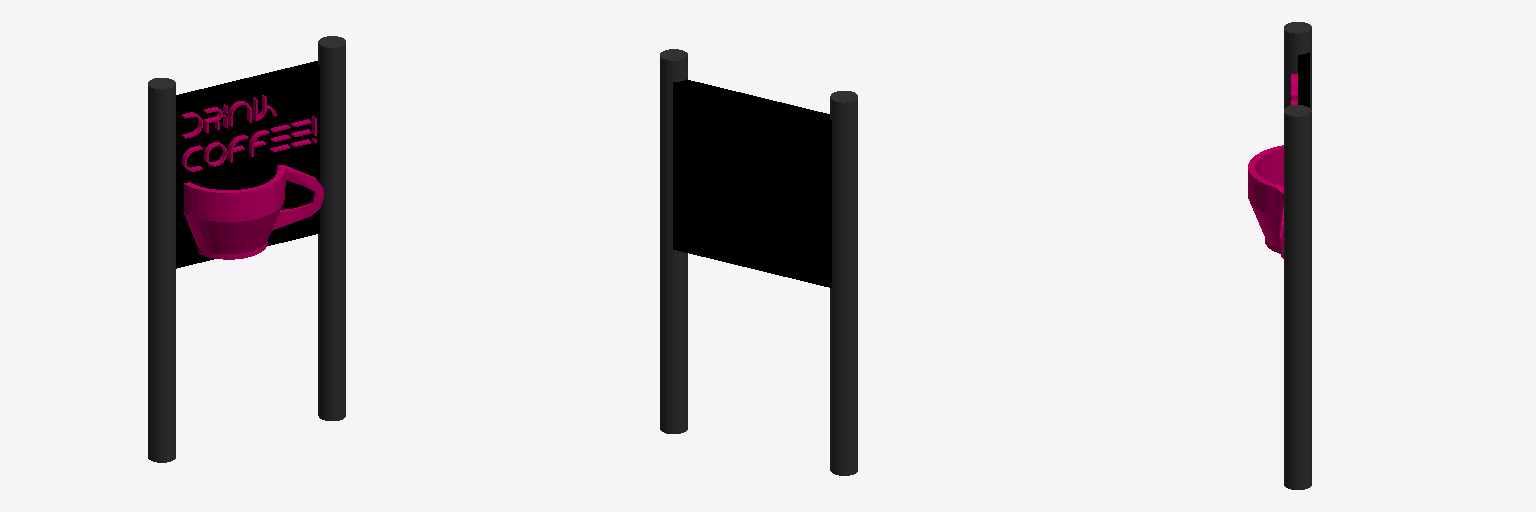
Rendered from drink_coffee_sign.obj.
3 renders of one model, left to right at view 1: azimuth 30°, elevation 25°; view 2: azimuth 150°, elevation 25°; view 3: azimuth 270°, elevation 25°, orthographic.
Visible parts, largest first — view 1: Cube, Cylinder.002, Cylinder.001, Cylinder, Text; view 2: Cube, Cylinder.002, Cylinder.001; view 3: Cylinder.001, Cylinder, Cylinder.002, Cube.
Boxes of the visible parts, <box> form: Cube: <box>176,61,319,268</box>; Cylinder.002: <box>148,78,175,462</box>; Cylinder.001: <box>318,36,345,420</box>; Cylinder: <box>184,165,323,259</box>; Text: <box>182,95,316,171</box>; Cube: <box>673,79,831,287</box>; Cylinder.002: <box>830,91,857,475</box>; Cylinder.001: <box>660,49,687,433</box>; Cylinder.001: <box>1284,105,1311,489</box>; Cylinder: <box>1248,145,1283,258</box>; Cylinder.002: <box>1284,22,1311,109</box>; Cube: <box>1298,52,1309,107</box>.
Size of the model in its own units: 5.72 by 10.47 by 1.62.